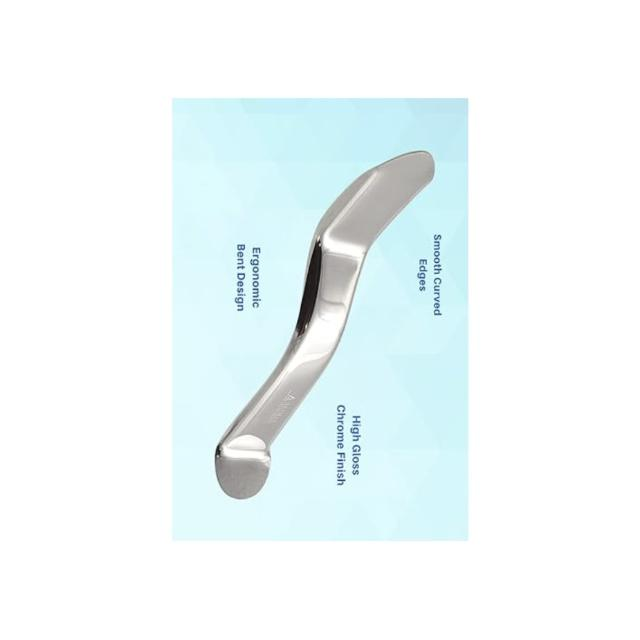separador: (214, 150, 438, 502)
